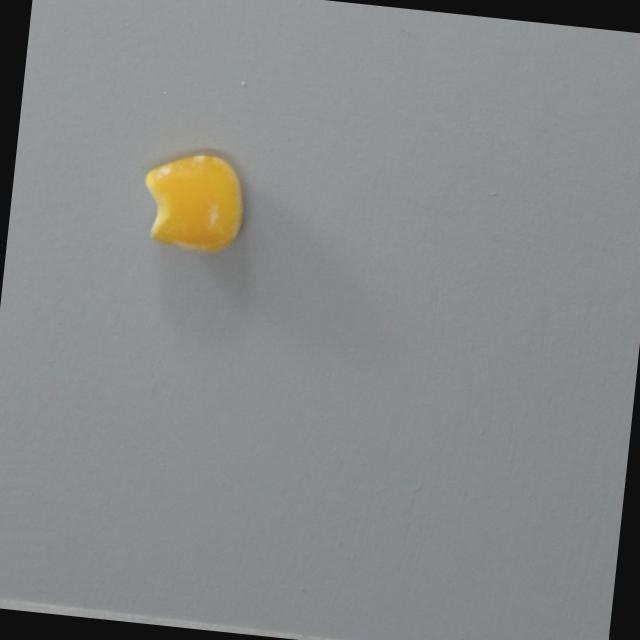pelicula: (136, 147, 249, 256)
